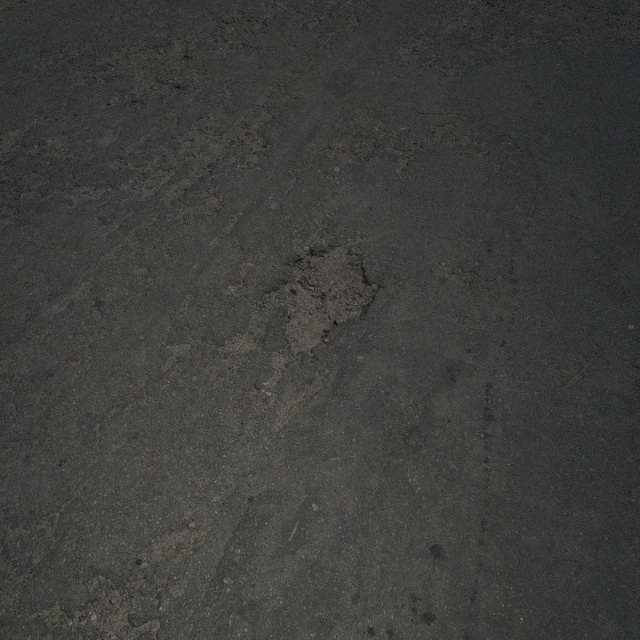pothole: (257, 242, 374, 354), (110, 36, 190, 106)
